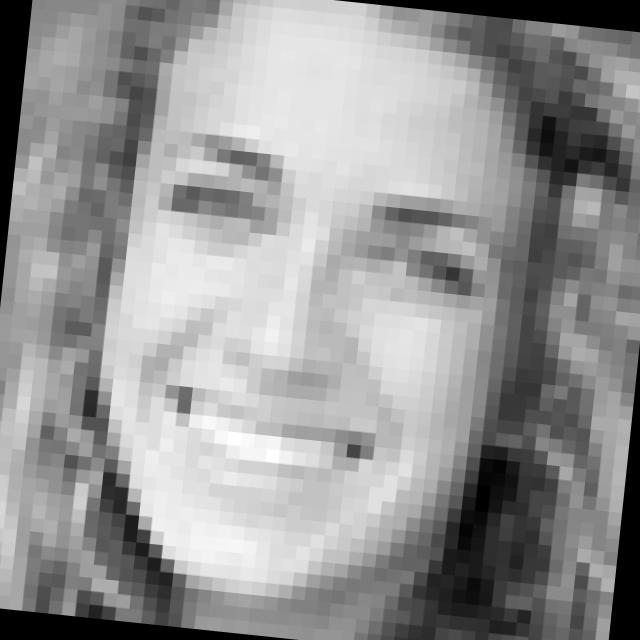happy: (118, 129, 527, 539)
